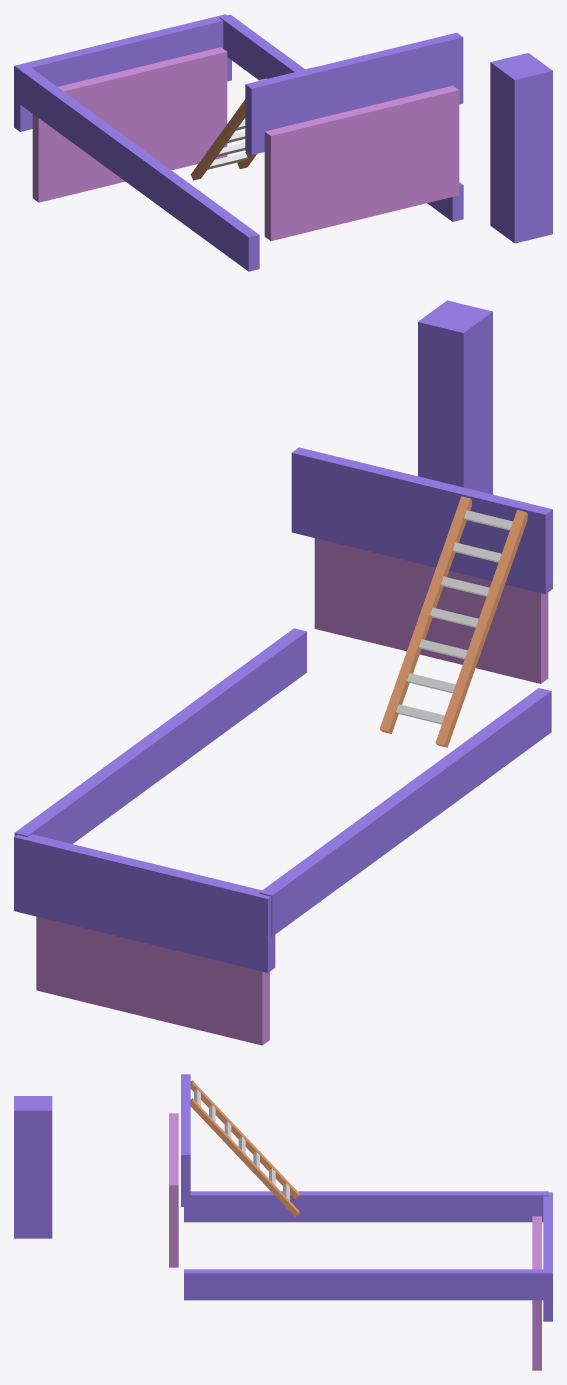
File: LADDER.fbx
3 renders of one model, top to bottom at view 1: azimuth 30°, elevation 25°; view 2: azimuth 150°, elevation 25°; view 3: azimuth 270°, elevation 25°, orthographic. The views are drawn at different scales.
Parts seen in each view (by area): view 1: plane_1__18_, plane_1__19_, plane_1__8_, plane_1__20_, plane_1__6_, plane_1__7_, plane_1__5_, plane_1__9_; view 2: plane_1__7_, plane_1__8_, plane_1__18_, plane_1__19_, plane_1__6_, plane_1__5_, plane_1__20_, plane_1__9_, plane_1__10_; view 3: plane_1__5_, plane_1__6_, plane_1__20_, plane_1__18_, plane_1__8_, plane_1__19_, plane_1__10_, plane_1__7_, plane_1__9_.
Part boxes in pixels (x1,y1,x2,y2): plane_1__18_: (264,85,459,240); plane_1__19_: (32,47,227,202); plane_1__8_: (245,32,463,154); plane_1__20_: (490,53,552,243); plane_1__6_: (15,64,259,271); plane_1__7_: (14,14,231,131); plane_1__5_: (219,14,463,221); plane_1__9_: (190,78,266,180); plane_1__7_: (14,834,275,972); plane_1__8_: (291,447,552,594); plane_1__18_: (314,538,548,683); plane_1__19_: (36,916,269,1045); plane_1__6_: (259,688,551,936); plane_1__5_: (14,628,306,843); plane_1__20_: (418,300,492,494); plane_1__9_: (435,510,527,747); plane_1__10_: (379,496,471,733); plane_1__5_: (184,1269,548,1300); plane_1__6_: (184,1191,548,1222); plane_1__20_: (14,1096,52,1238); plane_1__18_: (169,1113,178,1267); plane_1__8_: (181,1074,190,1206); plane_1__19_: (532,1216,541,1370); plane_1__10_: (190,1098,299,1216); plane_1__7_: (543,1192,552,1321); plane_1__9_: (190,1080,299,1199).
Bounding box in the file's own units: 655 × 960 × 1818.
